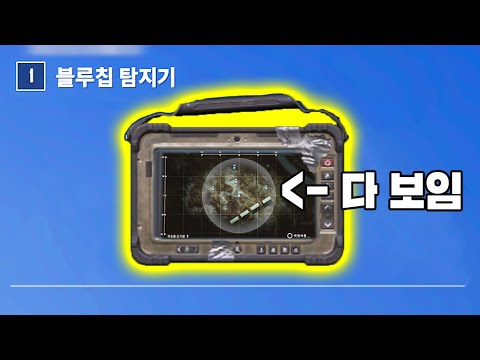블루칩: (55, 66, 114, 89)
탐지기: (119, 65, 175, 89)
